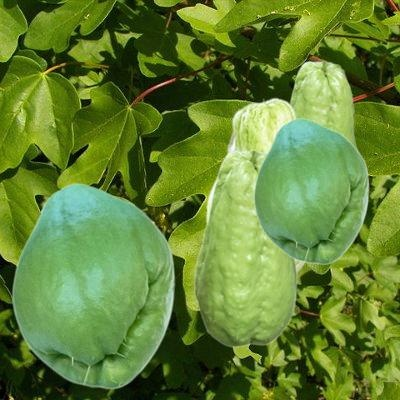sayote: (11, 183, 174, 389), (193, 149, 297, 347), (205, 97, 306, 274), (253, 118, 368, 264), (289, 60, 358, 149)
